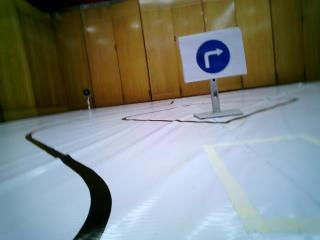right: (182, 40, 250, 77)
